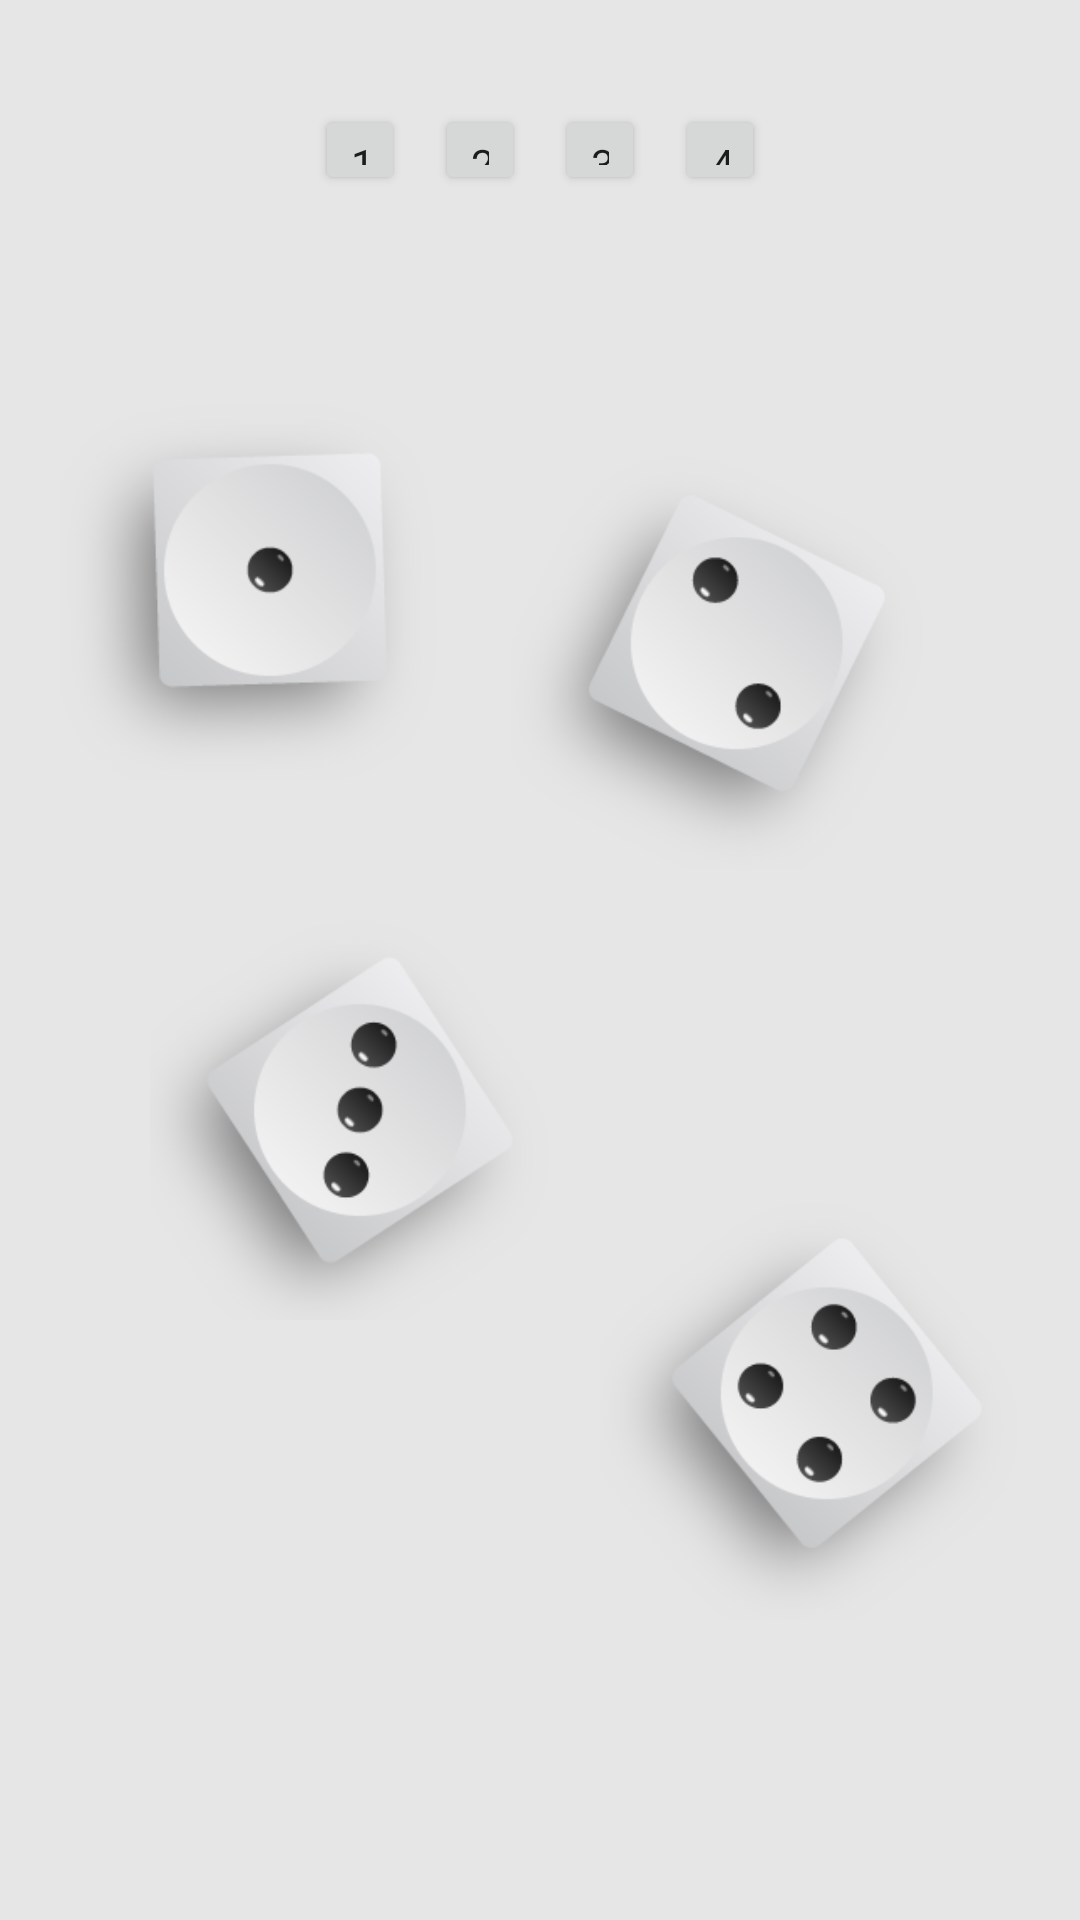

Named icons in this screenshot (1080x1920) and their centers, (x=x, y=y):
dice: (x=238, y=604), (x=708, y=670), (x=333, y=1137), (x=800, y=1420)
